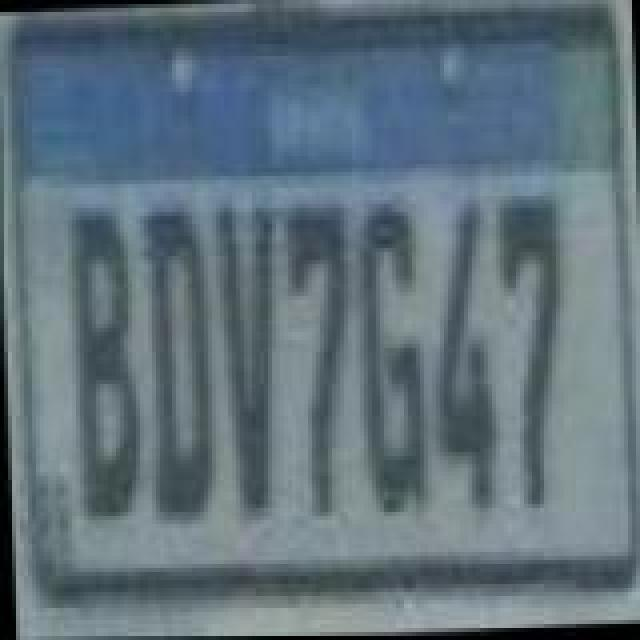4: (424, 196, 504, 520)
7: (278, 198, 354, 522), (494, 188, 570, 512)
B: (62, 196, 138, 520)
D: (132, 208, 212, 520)
G: (354, 196, 430, 520)
V: (206, 198, 282, 522)
